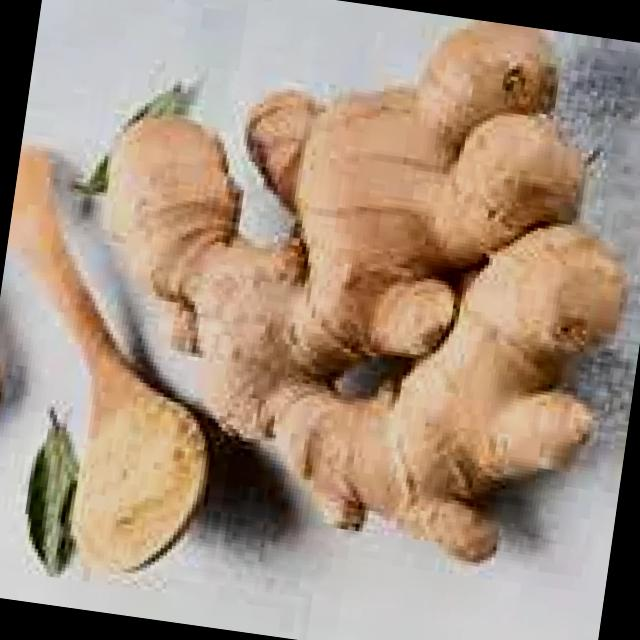ginger-root: (68, 24, 640, 620)
